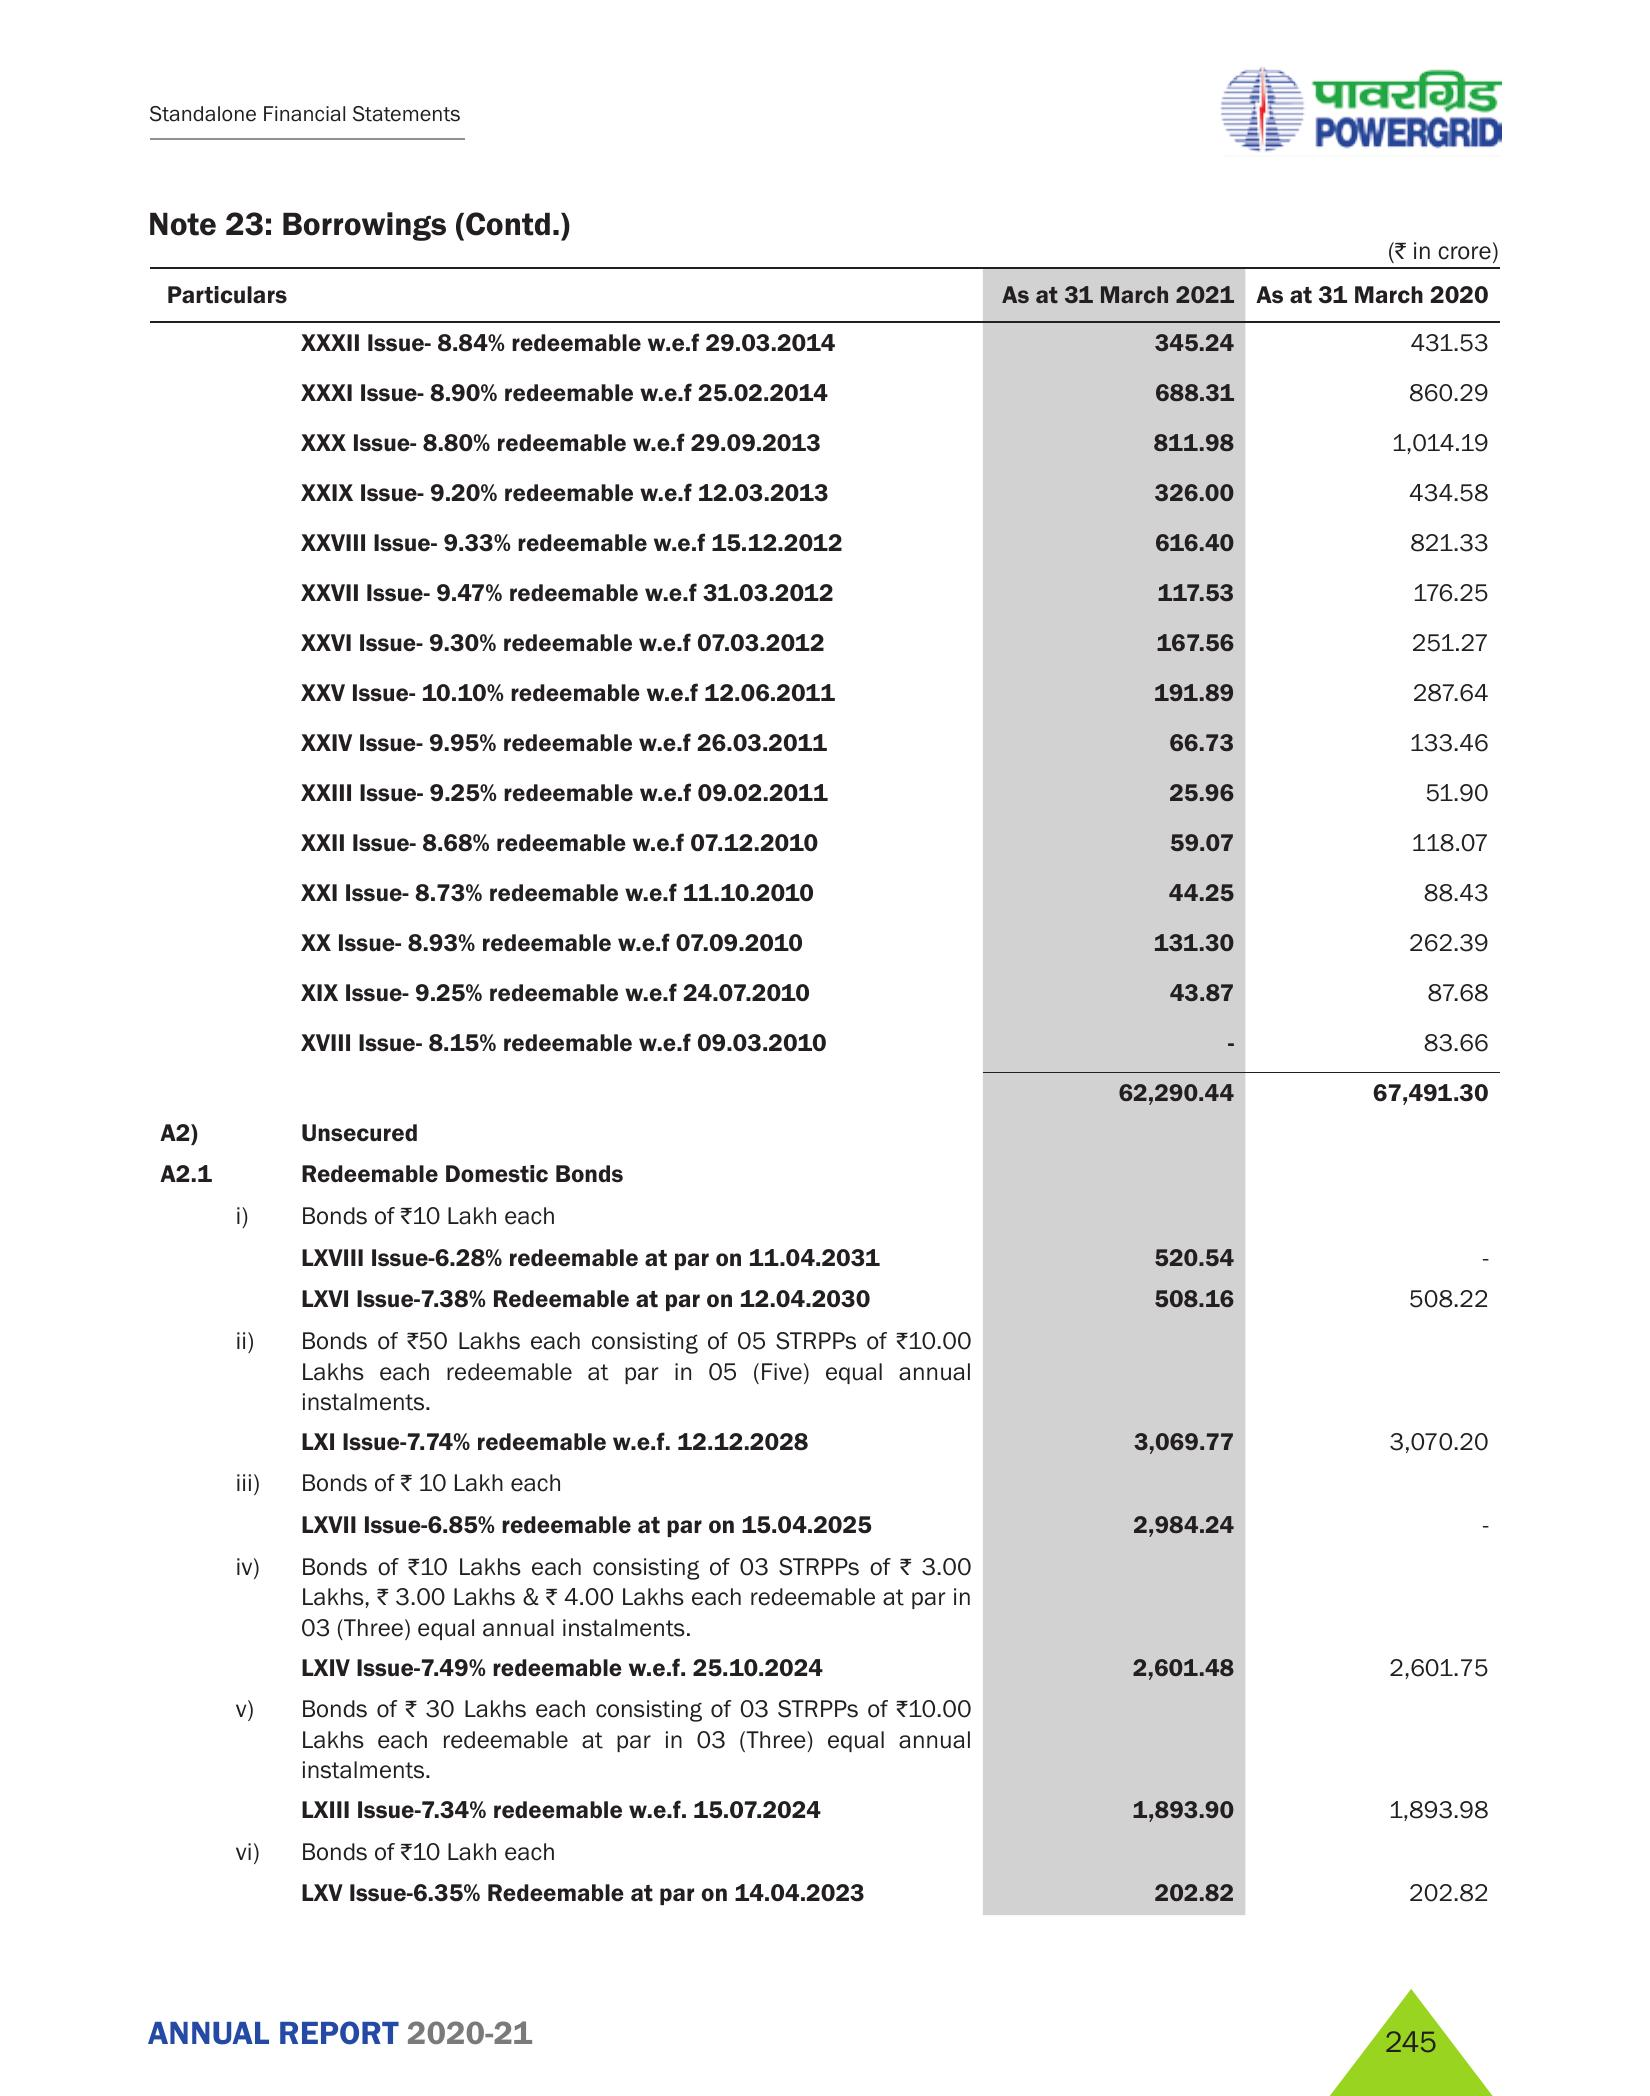Footer: (0, 1968, 1650, 2096)
Header: (0, 0, 1650, 172)
Table: (122, 265, 1545, 1941)
